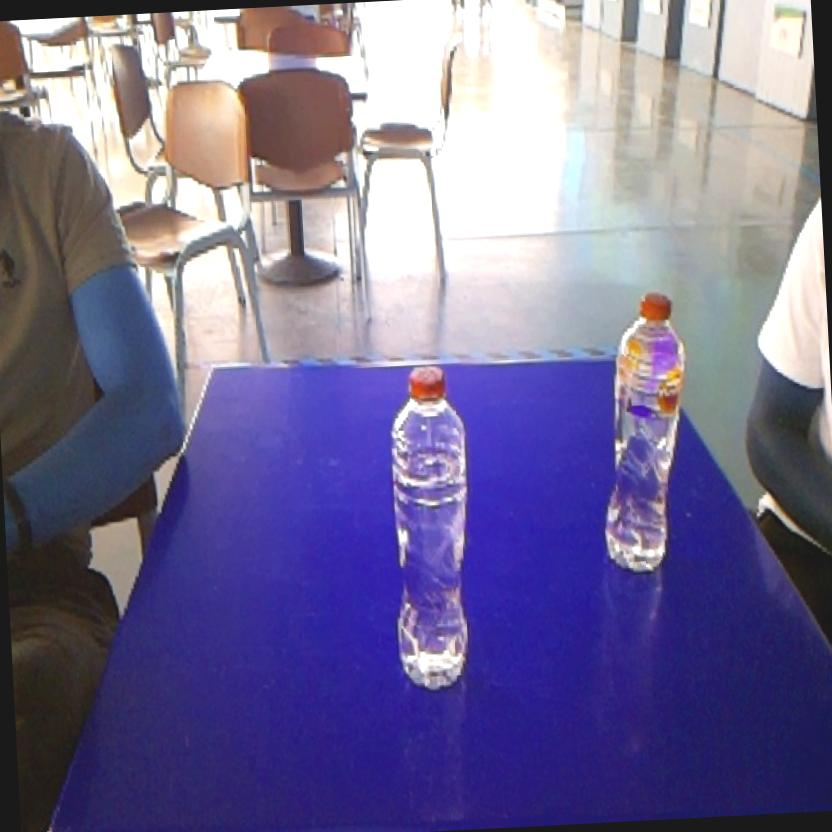good: (586, 274, 700, 582)
no_label: (376, 358, 488, 704)
